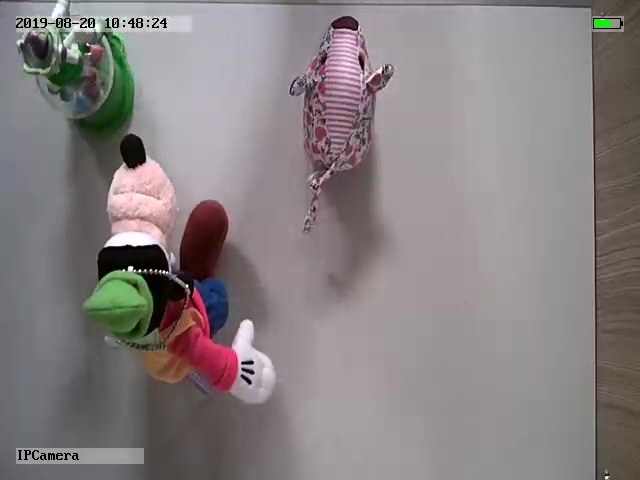buzz: (11, 1, 135, 129)
goofy: (80, 131, 276, 406)
pig: (288, 13, 395, 234)
